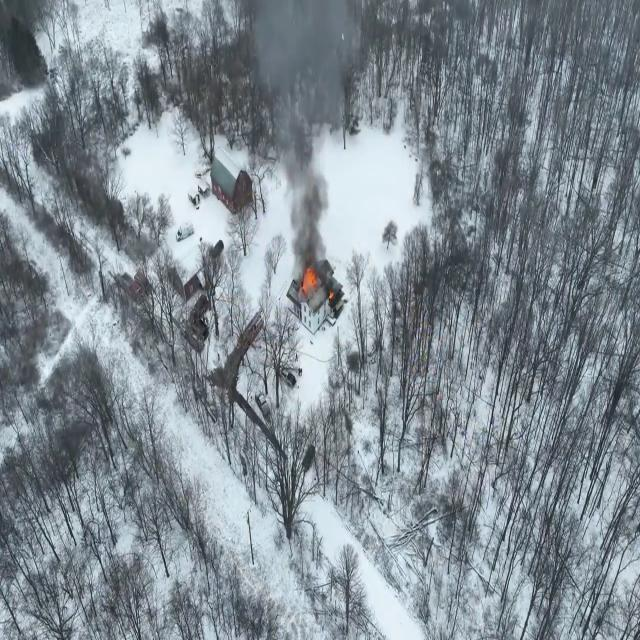Fire: (300, 258, 320, 304)
Smoke: (234, 0, 362, 251)
